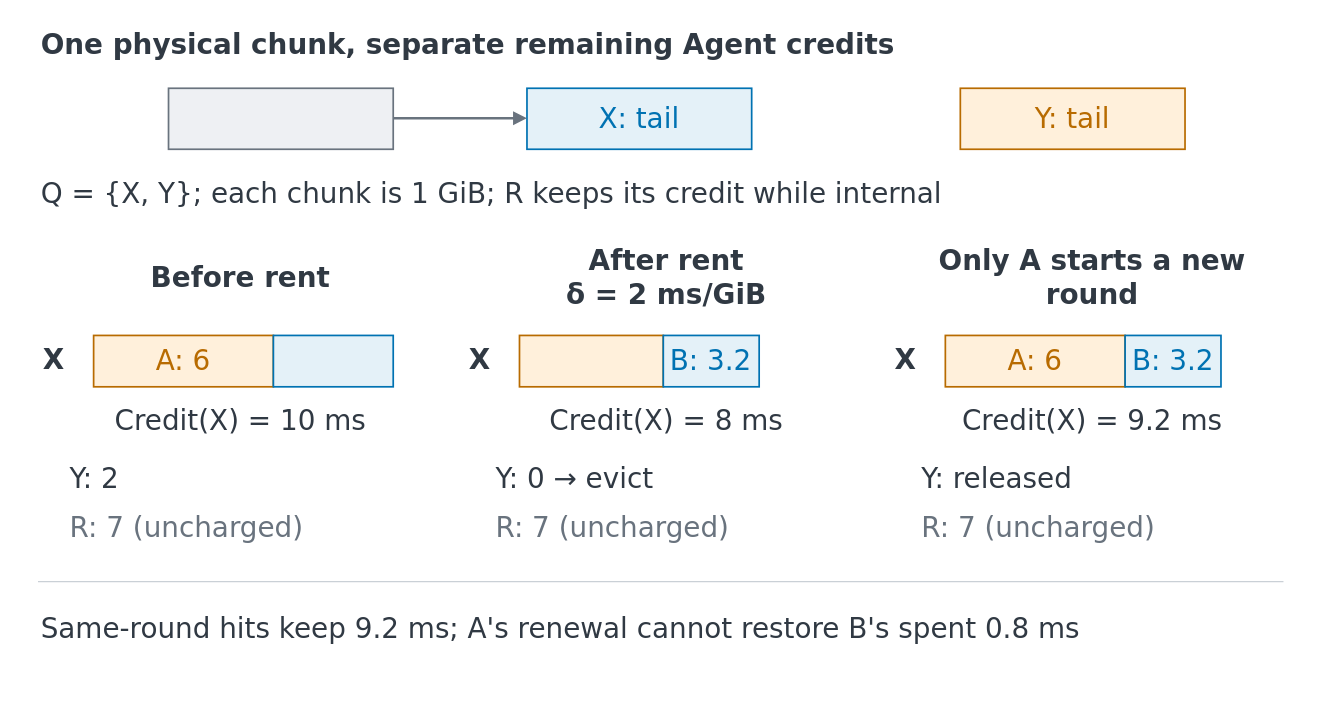
This 1323x702 diagram has some shape labels left out. Here are the shapes that lost their labels. From the top down, the centre of each, then its label:
At [280,118]: "R: internal".
At [333,360]: "B: 4".
At [591,360]: "A: 4.8".
